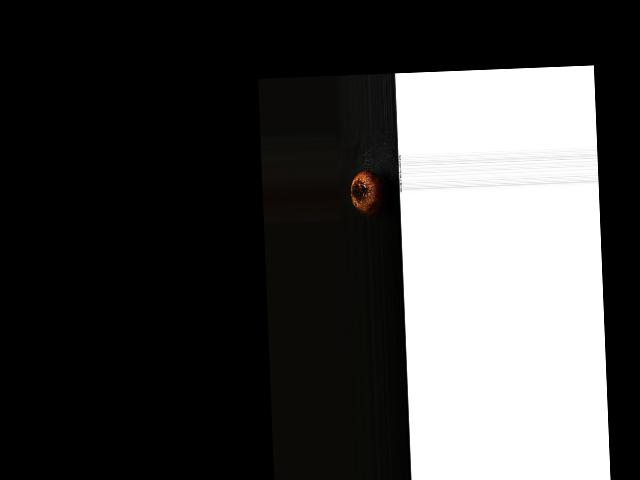beet: (350, 170, 391, 217)
